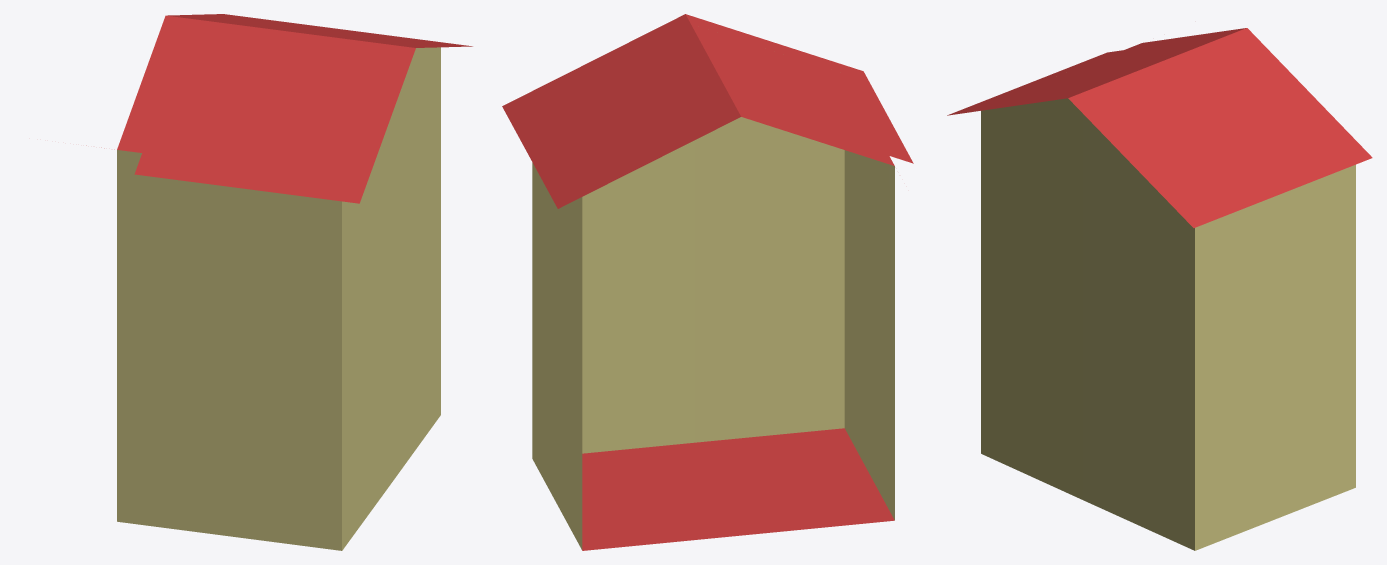
3 views of the same model, side by side, from view 1: azimuth 30°, elevation 25°; view 2: azimuth 150°, elevation 25°; view 3: azimuth 270°, elevation 25° (orthographic). The views are drawn at different scales.
Size of the model in its own units: 9.8 by 8.65 by 9.18.
